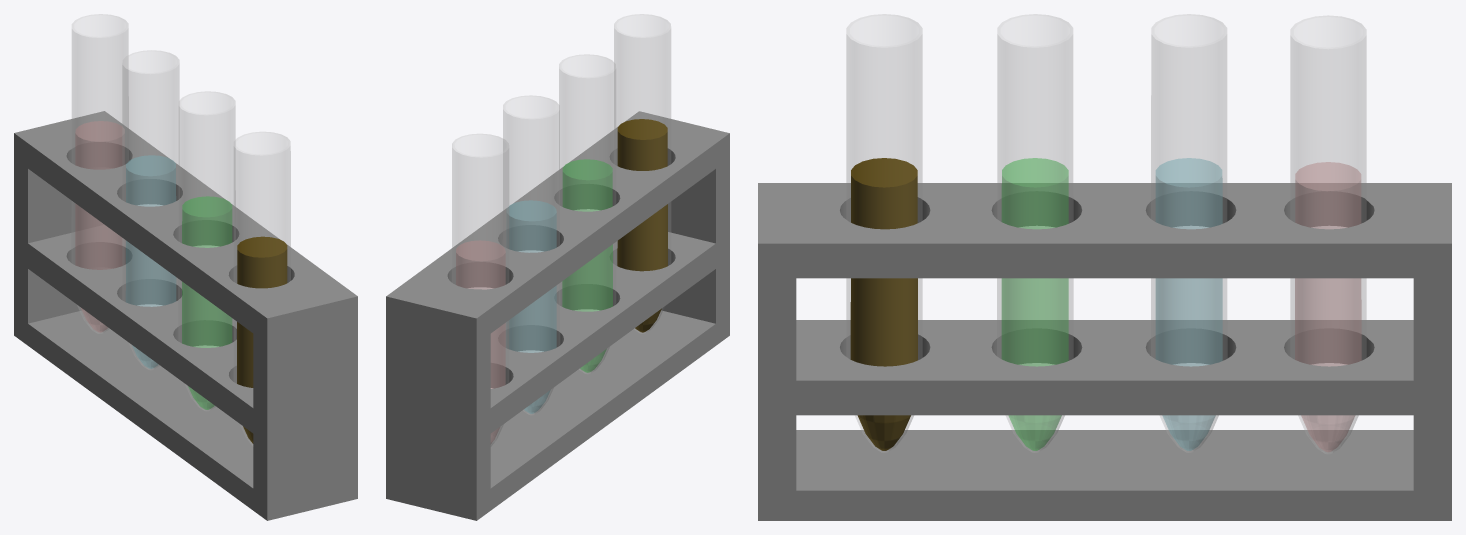
Rendered from test tube w rank.FBX.
3 renders of one model, left to right at view 1: azimuth 30°, elevation 25°; view 2: azimuth 150°, elevation 25°; view 3: azimuth 270°, elevation 25°, orthographic. The views are drawn at different scales.
Parts seen in each view (by area): view 1: Rectangle001, Object002, Object003, Object001, Object004, Cylinder003, Cylinder002, Cylinder001, Cylinder004; view 2: Rectangle001, Object003, Object004, Object002, Object001, Cylinder004, Cylinder003, Cylinder002, Cylinder001; view 3: Rectangle001, Object001, Object004, Object003, Object002, Cylinder004, Cylinder003, Cylinder002, Cylinder001.
Boxes of the visible parts, <box> form: Rectangle001: <box>14,111,357,520</box>; Object002: <box>122,50,179,369</box>; Object003: <box>178,91,235,410</box>; Object001: <box>71,14,128,333</box>; Object004: <box>234,132,290,445</box>; Cylinder003: <box>182,196,231,409</box>; Cylinder002: <box>126,155,175,368</box>; Cylinder001: <box>75,121,124,332</box>; Cylinder004: <box>237,236,287,443</box>; Rectangle001: <box>386,111,729,520</box>; Object003: <box>559,54,615,373</box>; Object004: <box>614,14,670,333</box>; Object002: <box>503,95,559,414</box>; Object001: <box>452,134,508,446</box>; Cylinder004: <box>617,119,667,332</box>; Cylinder003: <box>562,159,612,372</box>; Cylinder002: <box>507,200,556,413</box>; Cylinder001: <box>456,240,505,443</box>; Rectangle001: <box>758,183,1451,520</box>; Object001: <box>1290,15,1366,453</box>; Object004: <box>846,14,922,452</box>; Object003: <box>997,14,1073,452</box>; Object002: <box>1151,14,1227,452</box>; Cylinder004: <box>850,158,917,450</box>; Cylinder003: <box>1002,158,1068,450</box>; Cylinder002: <box>1156,158,1222,450</box>; Cylinder001: <box>1295,162,1361,451</box>.
Size of the model in its own units: 3.75 by 13.18 by 18.13.
6 materials, 5 textured.
